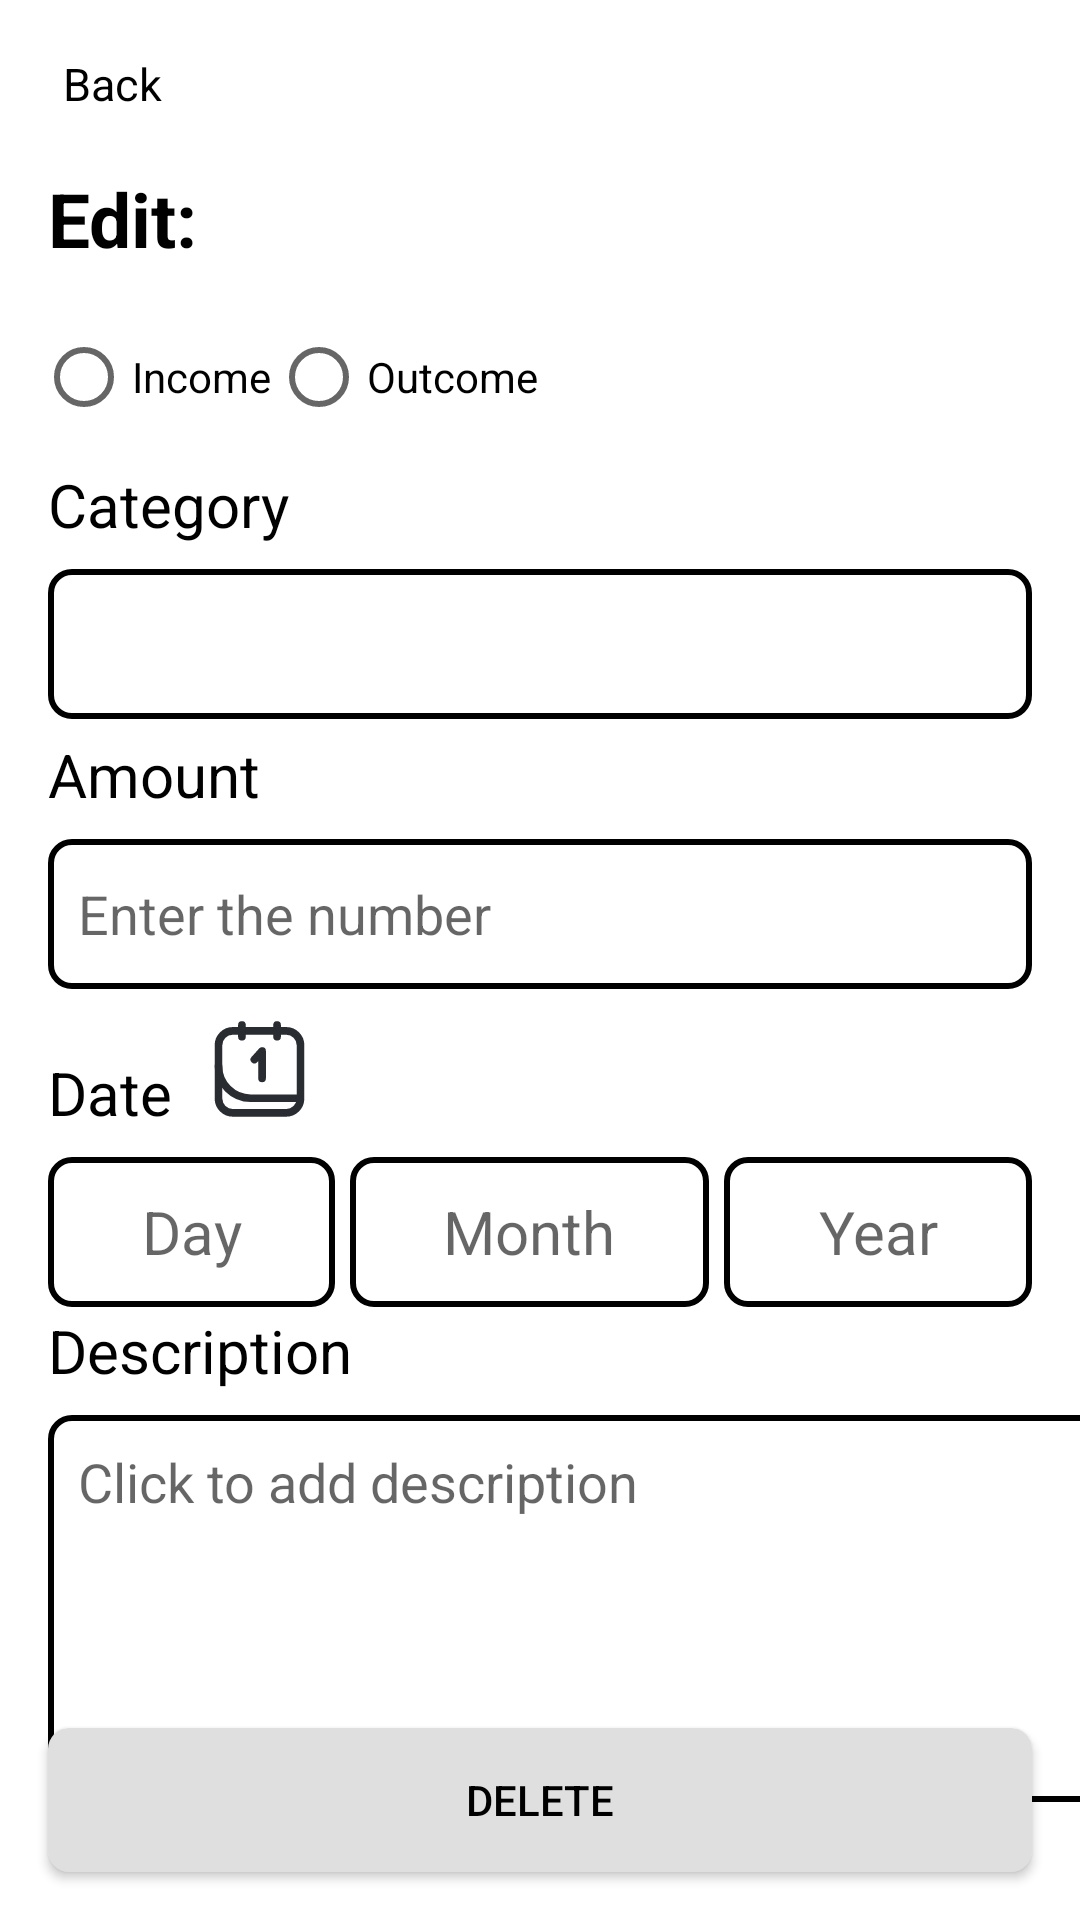

Locate icon controls on the screen. Image size 1080*1920, boxes as (x1, y1, x2, y2).
calender: (214, 1021, 305, 1117)
